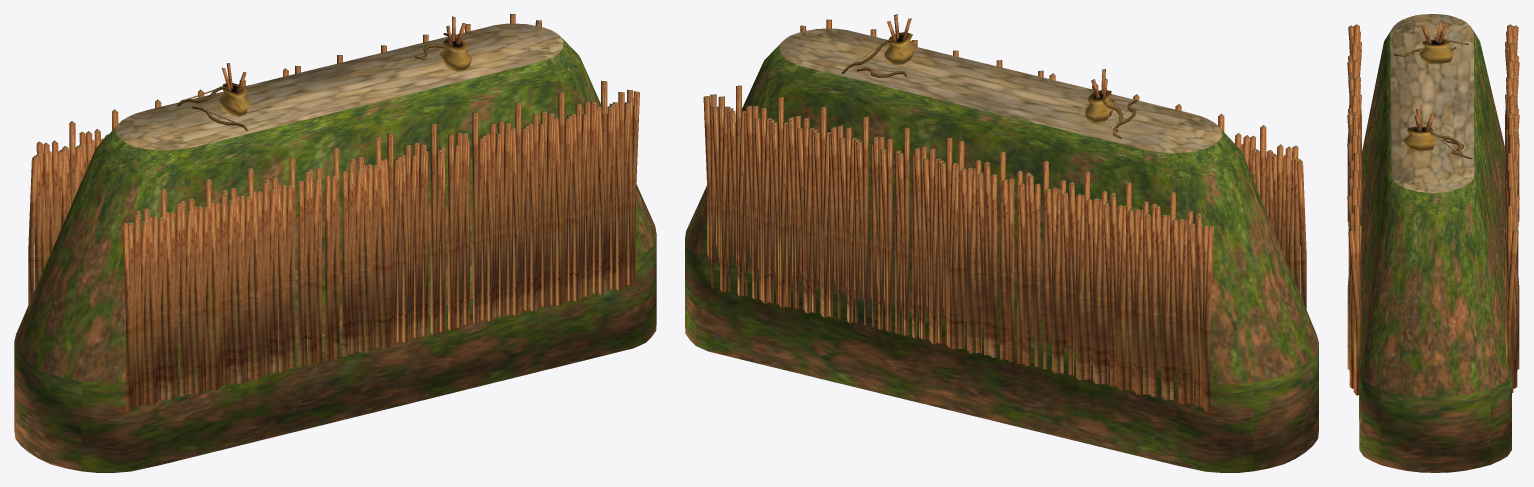
The model's file is wall_med.dae.
The picture shows the model from 3 angles, left to right: view 1: azimuth 30°, elevation 25°; view 2: azimuth 150°, elevation 25°; view 3: azimuth 270°, elevation 25°; orthographic projection. The views are drawn at different scales.
Parts seen in each view (by area): view 1: wall_med; view 2: wall_med; view 3: wall_med.
Boxes of the visible parts, bbox=[...] form: wall_med: bbox=[14, 14, 656, 472]; wall_med: bbox=[685, 14, 1318, 472]; wall_med: bbox=[1347, 14, 1519, 472].
Bounding box in the file's own units: 35.39 × 10.23 × 18.33.
